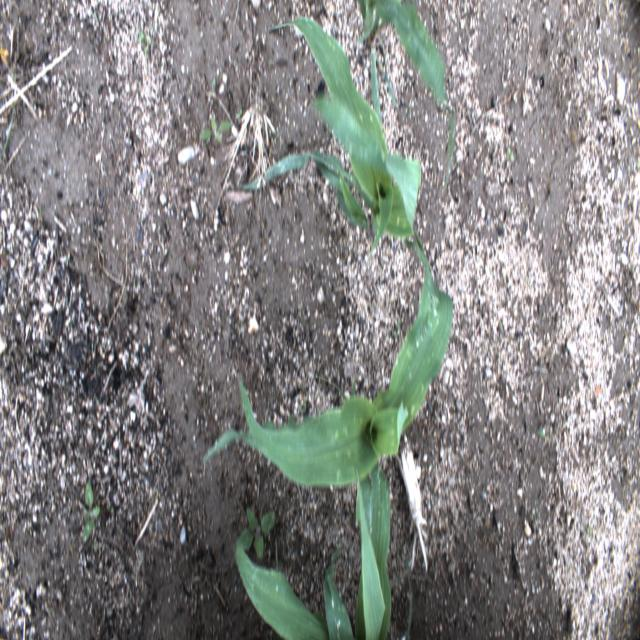crop: (202, 230, 452, 486), (240, 17, 420, 261), (234, 461, 392, 639), (357, 0, 454, 199), (404, 556, 412, 639)
weed: (236, 508, 276, 560), (82, 481, 102, 545), (137, 26, 159, 78), (199, 114, 233, 144), (0, 102, 16, 163), (537, 430, 549, 446), (393, 320, 401, 340), (298, 399, 306, 415), (508, 146, 514, 162), (237, 108, 242, 120)
